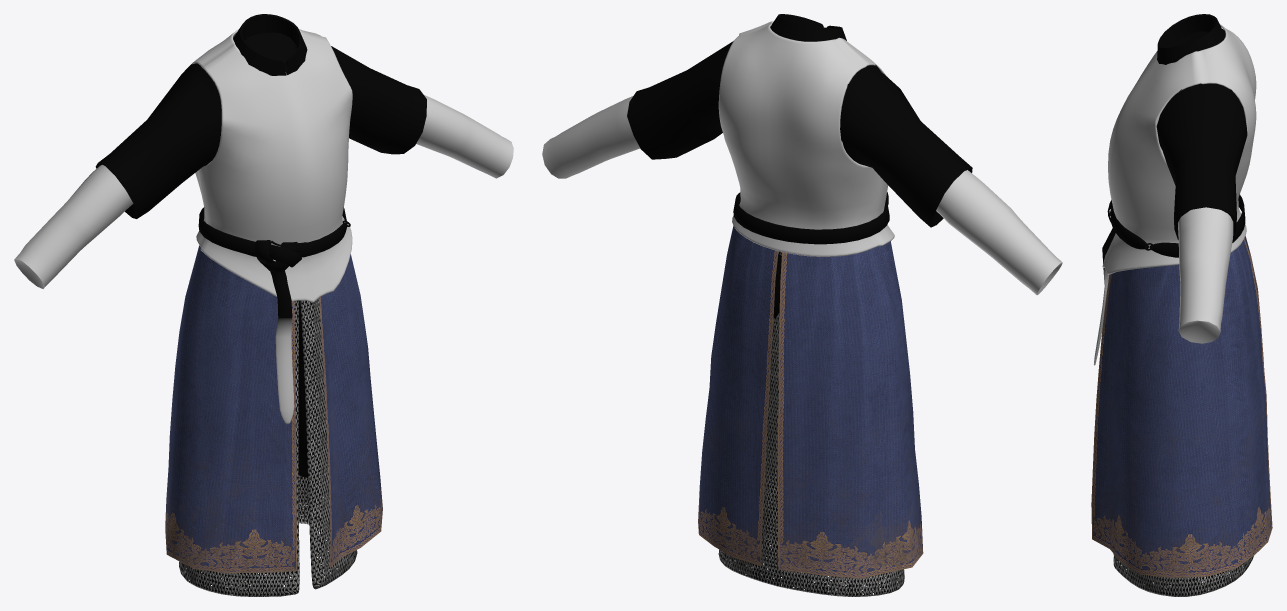
The model's file is boromir_armor.fbx.
The picture shows the model from 3 angles, left to right: view 1: azimuth 30°, elevation 25°; view 2: azimuth 150°, elevation 25°; view 3: azimuth 270°, elevation 25°; orthographic projection. The views are drawn at different scales.
Visible parts, largest first — view 1: boromir_armor.4, boromir_armor.3, boromir_armor.1, boromir_armor.2, boromir_armor.0; view 2: boromir_armor.4, boromir_armor.3, boromir_armor.1, boromir_armor.0, boromir_armor.2; view 3: boromir_armor.4, boromir_armor.3, boromir_armor.1, boromir_armor.0, boromir_armor.2.
Boxes of the visible parts, bbox=[...] form: boromir_armor.4: bbox=[165, 245, 382, 573]; boromir_armor.3: bbox=[192, 29, 352, 302]; boromir_armor.1: bbox=[95, 14, 426, 478]; boromir_armor.2: bbox=[179, 298, 357, 596]; boromir_armor.0: bbox=[14, 95, 513, 288]; boromir_armor.4: bbox=[698, 225, 923, 578]; boromir_armor.3: bbox=[718, 21, 894, 256]; boromir_armor.1: bbox=[627, 14, 972, 477]; boromir_armor.0: bbox=[542, 96, 1062, 294]; boromir_armor.2: bbox=[718, 251, 904, 596]; boromir_armor.4: bbox=[1091, 236, 1272, 577]; boromir_armor.3: bbox=[1102, 24, 1256, 274]; boromir_armor.1: bbox=[1093, 14, 1247, 365]; boromir_armor.0: bbox=[1178, 207, 1233, 343]; boromir_armor.2: bbox=[1113, 554, 1253, 596].
Bounding box in the file's own units: 1.38 × 0.4389 × 1.45.
